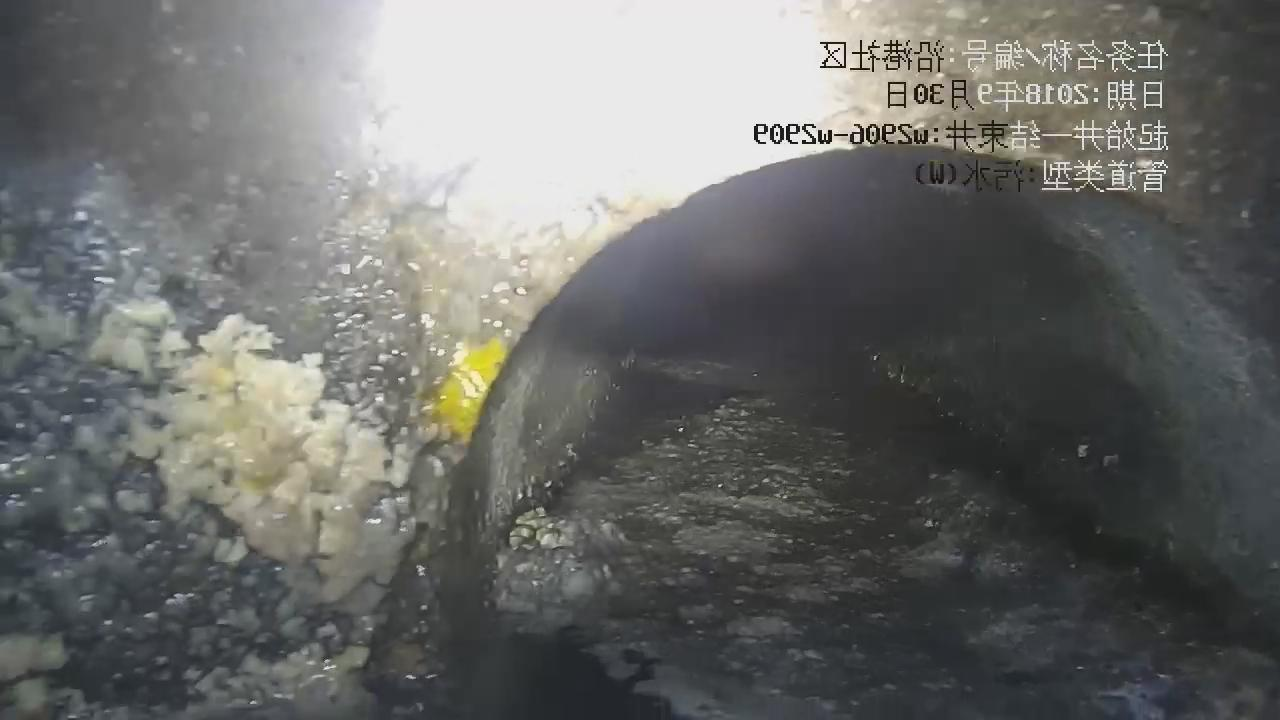FZ: (497, 316, 1277, 719)
